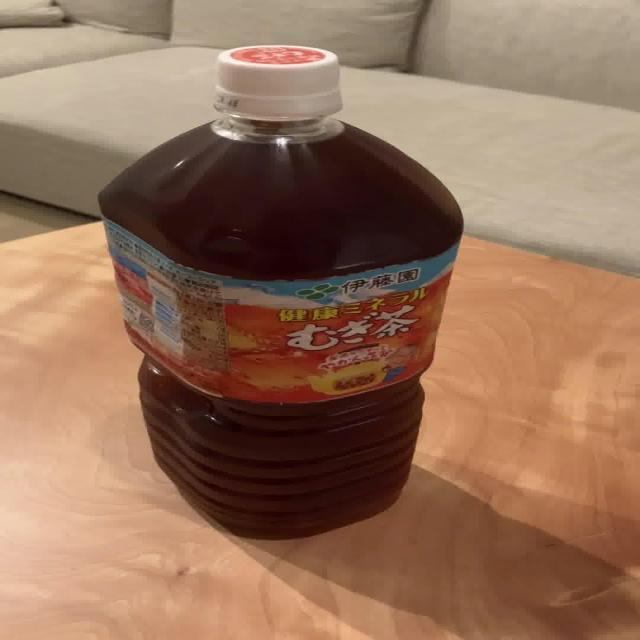good: (94, 42, 467, 539)
